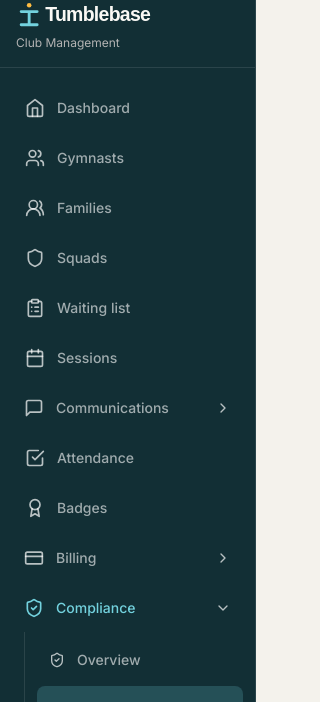
Test case: accessible navigation › removes collapsed links from the accessible navigation and marks only the current page
Click the button "Compliance" at (128, 608), box [12,584,243,632]
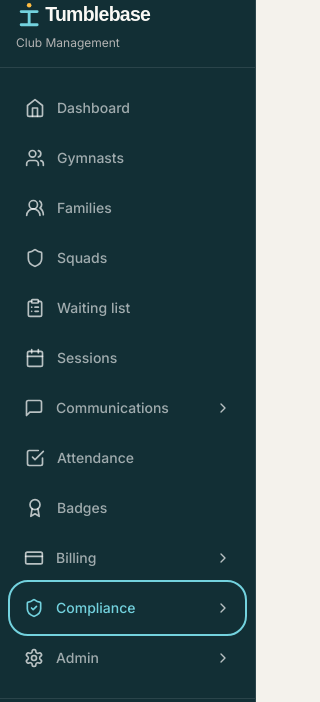
Click the button "Compliance" at (128, 608), box [12,584,243,632]
(page scrolled)
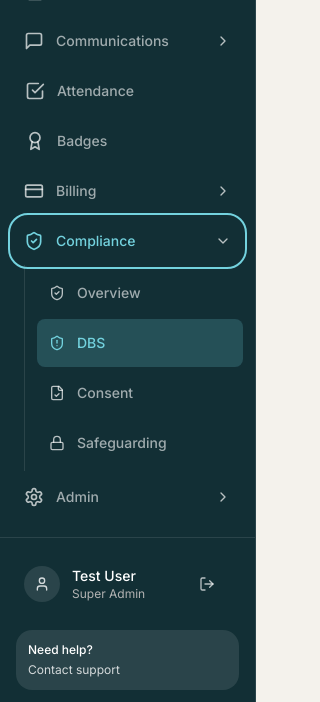
Expected: the link "DBS" is shown, [37,319,243,367]
